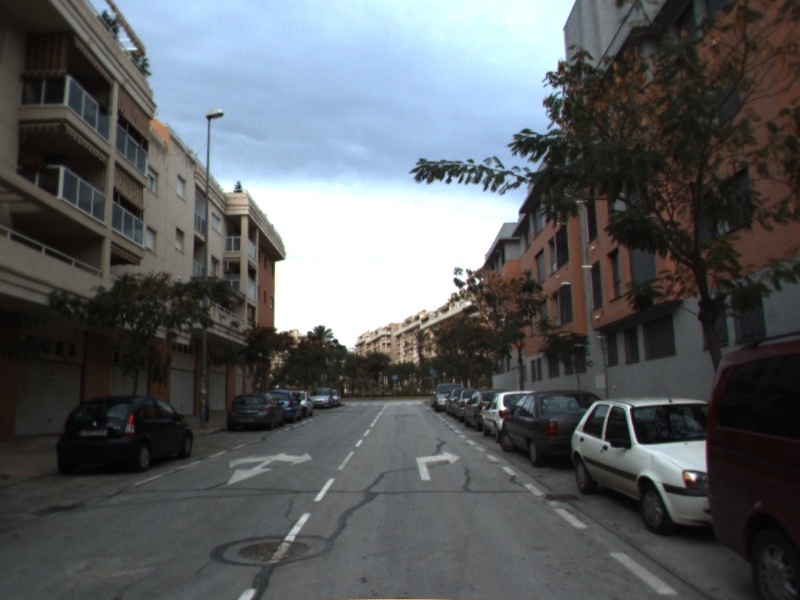RIGHT: (414, 449, 463, 482)
